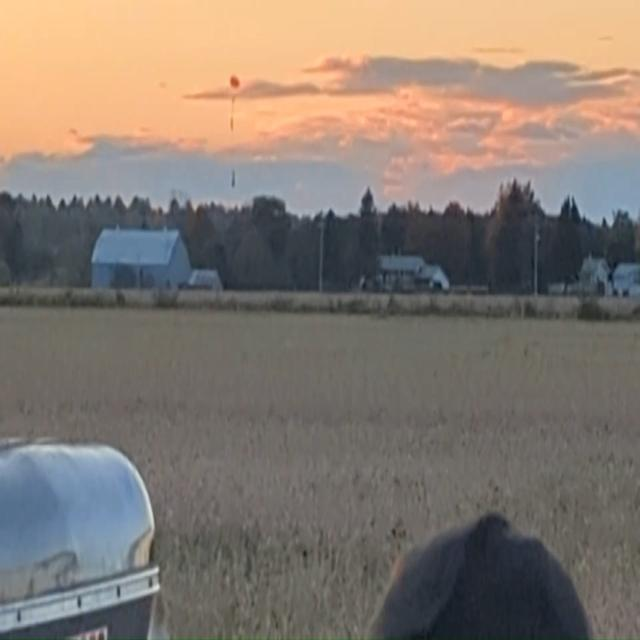Rocket: (232, 169, 236, 188)
